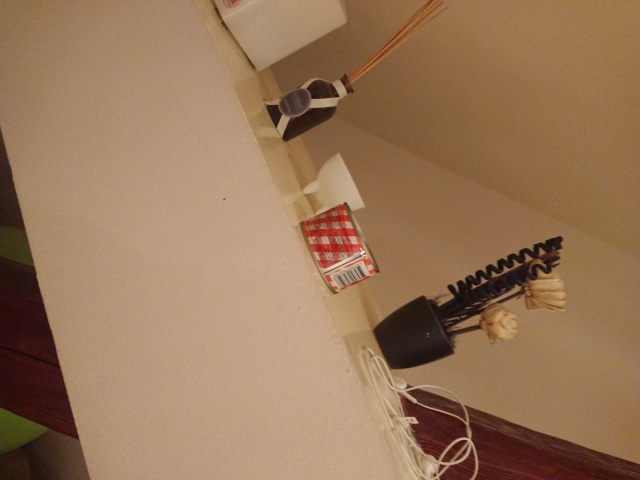Podravka Luncheon Meat 150g: (298, 199, 382, 296)
